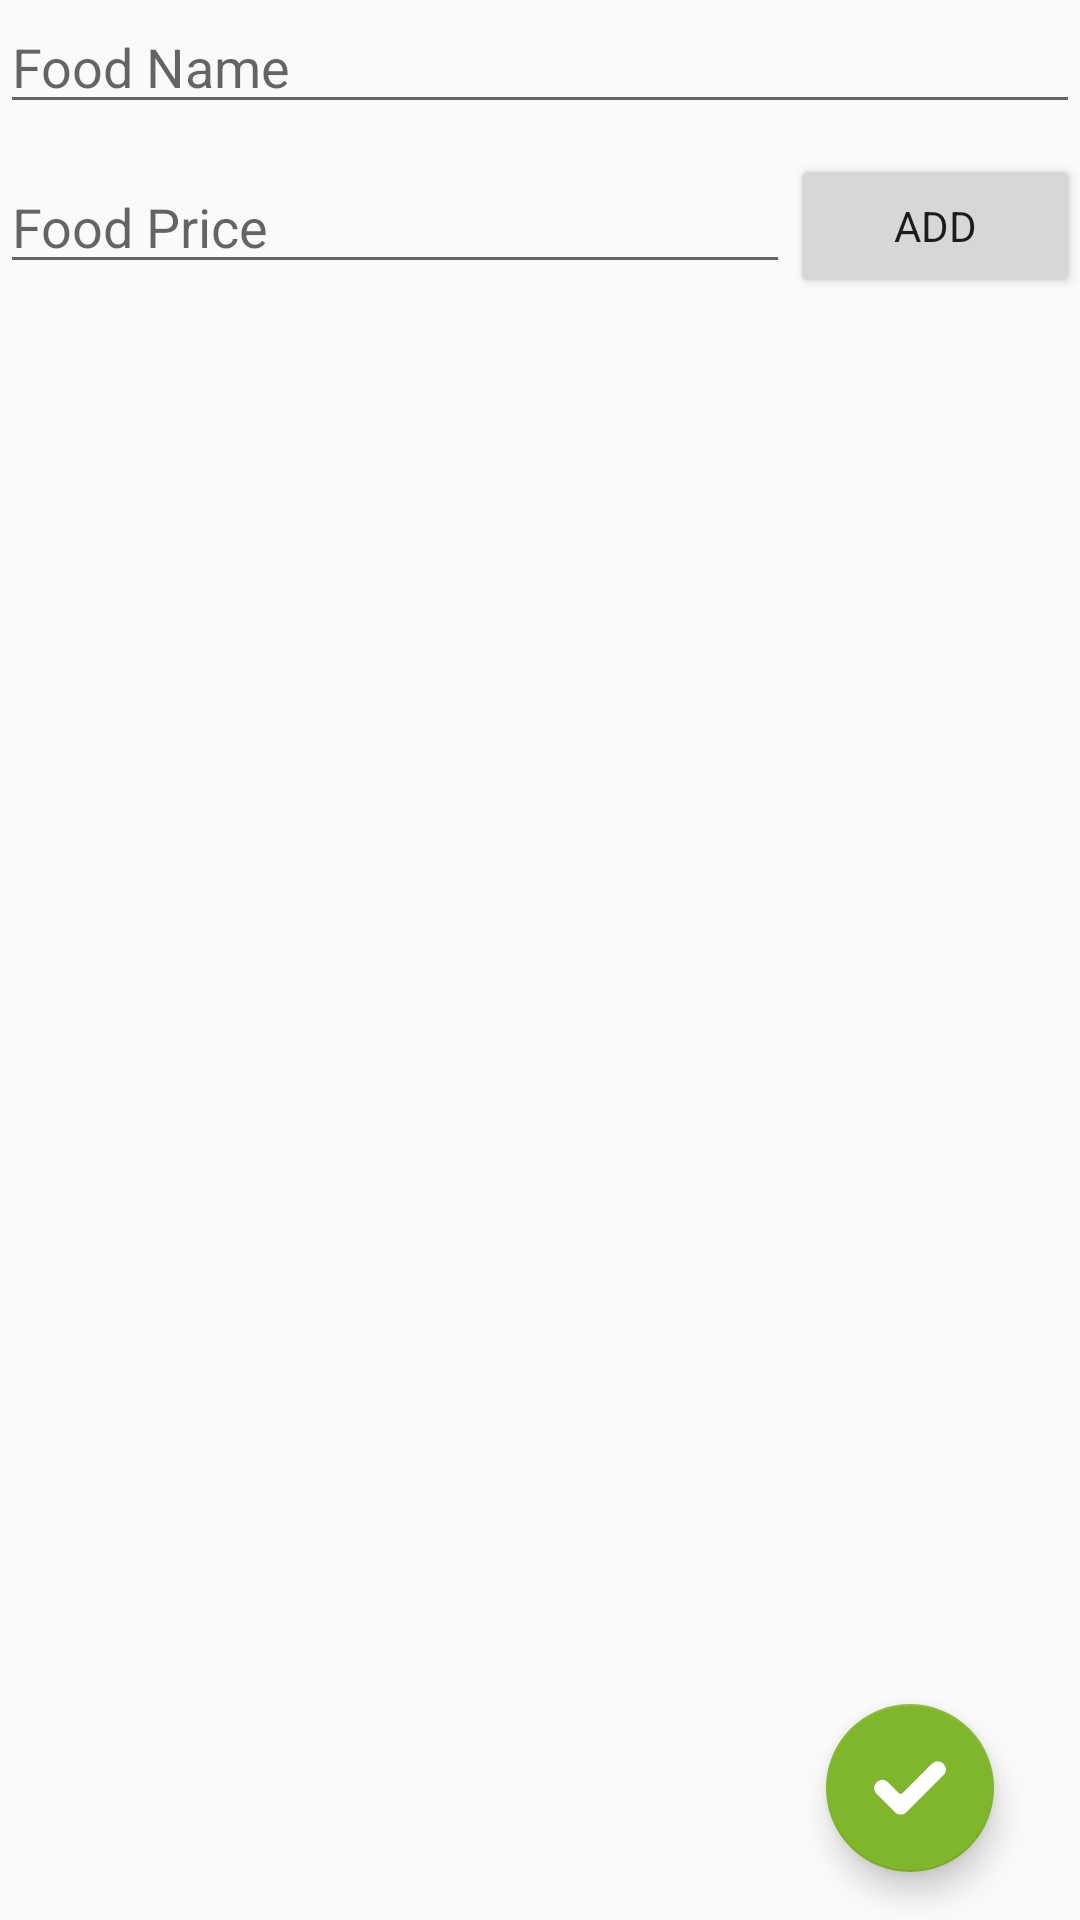

Icon click points for this 1080 x 1920 phone screenshot, format (x,y):
checkmark: (910,1788)
